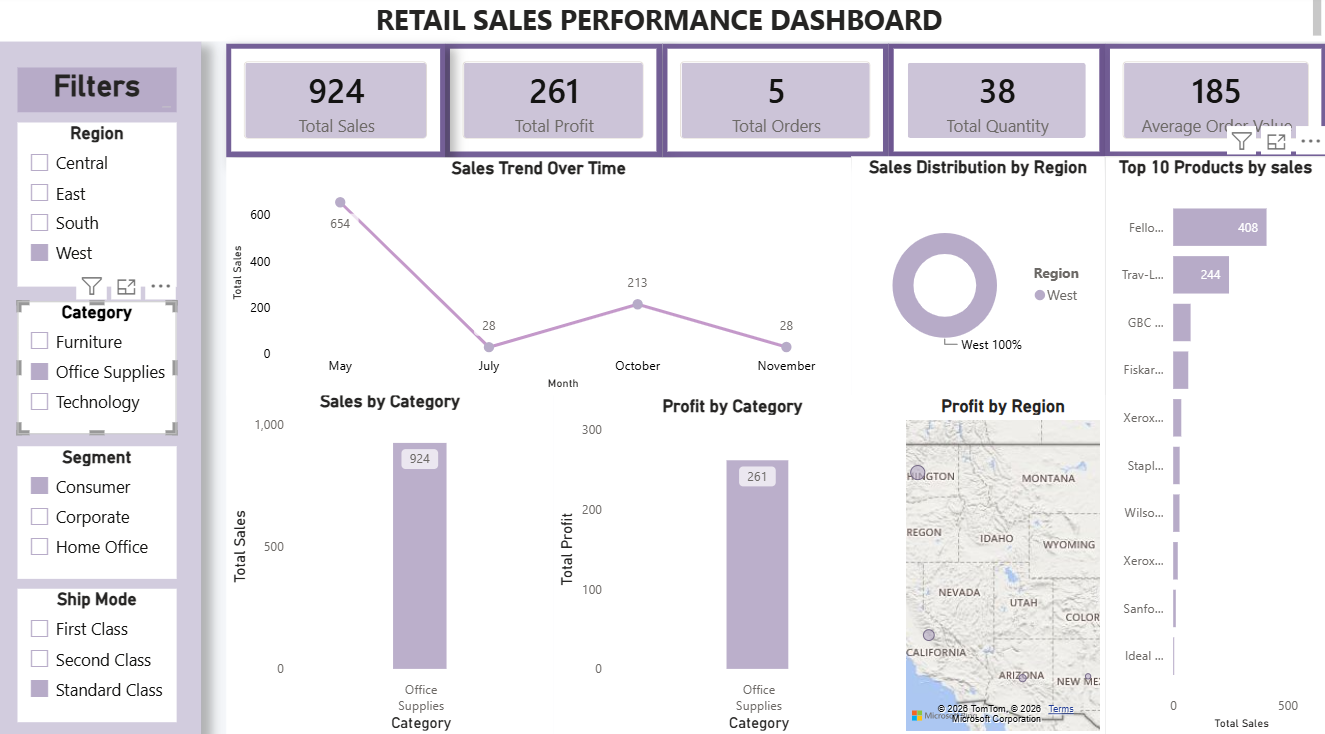

This screenshot's page, from the dashboard's own definition file:
{"tool":"powerbi","page":{"name":"Page 1","canvas":[1280,720],"ordinal":0},"visuals":[{"type":"shape","box":[0,44.6,194.2,670.8],"z":0},{"type":"cardVisual","fields":{"Data":["retail_sales_db superstore_cleaned (2).Total Profit"]},"box":[429.6,46.5,209.9,109.9],"z":1000},{"type":"cardVisual","fields":{"Data":["retail_sales_db superstore_cleaned (2).Total Orders"]},"box":[639.4,46.5,218.3,109.9],"z":2000},{"type":"cardVisual","fields":{"Data":["retail_sales_db superstore_cleaned (2).Total Quantity"]},"box":[857.7,46.5,208.5,109.9],"z":3000},{"type":"cardVisual","fields":{"Data":["retail_sales_db superstore_cleaned (2).Average Order Value"]},"box":[1066.2,46.5,214.1,109.9],"z":4000},{"type":"lineClusteredColumnComboChart","title":"Sales by Category","fields":{"Category":["retail_sales_db superstore_cleaned (2).Category"],"Y":["retail_sales_db superstore_cleaned (2).Total Sales"]},"box":[218.4,381.2,316.1,334.2],"z":5000},{"type":"lineClusteredColumnComboChart","title":"Profit by Category","fields":{"Category":["retail_sales_db superstore_cleaned (2).Category"],"Y":["retail_sales_db superstore_cleaned (2).Total Profit"]},"box":[534.5,386.1,345,329.4],"z":6000},{"type":"slicer","title":"Region","fields":{"Values":["retail_sales_db superstore_cleaned (2).Region"]},"box":[16.9,123.1,153.2,158],"z":7000},{"type":"slicer","title":"Category","fields":{"Values":["retail_sales_db superstore_cleaned (2).Category"]},"box":[16.9,295.6,153.2,127.9],"z":8000},{"type":"slicer","title":"Segment","fields":{"Values":["retail_sales_db superstore_cleaned (2).Segment"]},"box":[16.9,435.5,153.2,127.9],"z":9000},{"type":"slicer","title":"Ship Mode","fields":{"Values":["retail_sales_db superstore_cleaned (2).Ship Mode"]},"box":[16.9,573.1,153.2,129.1],"z":10000},{"type":"textbox","box":[0,0,1280,44.6],"z":11000},{"type":"textbox","title":"Filters","box":[16.9,70,153.2,43.4],"z":12000},{"type":"cardVisual","title":"Total  Sales","fields":{"Data":["retail_sales_db superstore_cleaned (2).Total Sales"]},"box":[218.4,47.1,211.1,109.8],"z":13000},{"type":"lineClusteredColumnComboChart","title":"Sales Trend Over Time","fields":{"Category":["retail_sales_db superstore_cleaned (2).Order Date.Variation.Date Hierarchy.Month"],"Series":["retail_sales_db superstore_cleaned (2).Product ID"],"Y2":["retail_sales_db superstore_cleaned (2).Total Sales"]},"box":[218.4,156.8,603.2,229.2],"z":14000},{"type":"clusteredBarChart","title":"Top 10 Products by sales","fields":{"Category":["retail_sales_db superstore_cleaned (2).Product Name"],"Y":["retail_sales_db superstore_cleaned (2).Total Sales"]},"box":[1066.5,155.6,213.5,558.6],"z":15000},{"type":"map","title":"Profit by Region","fields":{"Category":["retail_sales_db superstore_cleaned (2).State"],"Size":["retail_sales_db superstore_cleaned (2).Total Profit"]},"box":[869.8,386.1,196.6,329.4],"z":16000},{"type":"donutChart","title":"Sales Distribution by Region","fields":{"Category":["retail_sales_db superstore_cleaned (2).Region"],"Y":["Sum(retail_sales_db superstore_cleaned (2).Sales)"]},"box":[821.6,155.6,244.9,230.4],"z":17000}]}

Visuals, with their boxes in screenshot pixels (x1, y1, x2, y2), scaled from the page's 1280x720 canvas onto the 1325x734 screenshot:
shape: {"left": 0, "top": 45, "right": 201, "bottom": 729}
cardVisual - retail_sales_db superstore_cleaned (2).Total Profit: {"left": 445, "top": 47, "right": 662, "bottom": 159}
cardVisual - retail_sales_db superstore_cleaned (2).Total Orders: {"left": 662, "top": 47, "right": 888, "bottom": 159}
cardVisual - retail_sales_db superstore_cleaned (2).Total Quantity: {"left": 888, "top": 47, "right": 1104, "bottom": 159}
cardVisual - retail_sales_db superstore_cleaned (2).Average Order Value: {"left": 1104, "top": 47, "right": 1324, "bottom": 159}
"Sales by Category" lineClusteredColumnComboChart: {"left": 226, "top": 389, "right": 553, "bottom": 729}
"Profit by Category" lineClusteredColumnComboChart: {"left": 553, "top": 394, "right": 910, "bottom": 729}
"Region" slicer: {"left": 17, "top": 125, "right": 176, "bottom": 287}
"Category" slicer: {"left": 17, "top": 301, "right": 176, "bottom": 432}
"Segment" slicer: {"left": 17, "top": 444, "right": 176, "bottom": 574}
"Ship Mode" slicer: {"left": 17, "top": 584, "right": 176, "bottom": 716}
textbox: {"left": 0, "top": 0, "right": 1324, "bottom": 45}
"Filters" textbox: {"left": 17, "top": 71, "right": 176, "bottom": 116}
"Total  Sales" cardVisual: {"left": 226, "top": 48, "right": 445, "bottom": 160}
"Sales Trend Over Time" lineClusteredColumnComboChart: {"left": 226, "top": 160, "right": 850, "bottom": 394}
"Top 10 Products by sales" clusteredBarChart: {"left": 1104, "top": 159, "right": 1324, "bottom": 728}
"Profit by Region" map: {"left": 900, "top": 394, "right": 1104, "bottom": 729}
"Sales Distribution by Region" donutChart: {"left": 850, "top": 159, "right": 1104, "bottom": 394}
